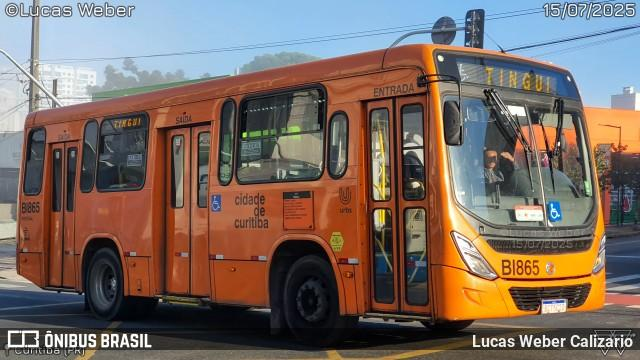TINGUI: (480, 62, 555, 96)
